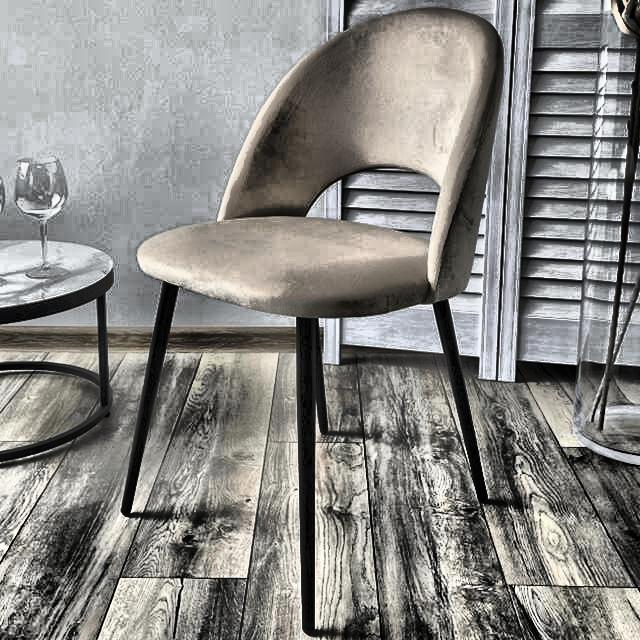cadeira: (114, 3, 510, 635), (125, 0, 514, 325)
